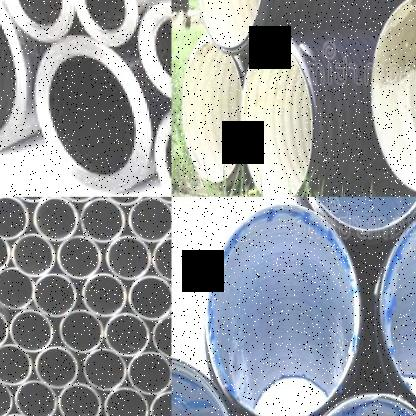pipe: (204, 203, 360, 416), (33, 34, 153, 197), (240, 42, 312, 196), (182, 39, 243, 183), (371, 0, 416, 194), (379, 205, 416, 416), (172, 353, 237, 416), (136, 0, 171, 106), (196, 0, 265, 50), (70, 0, 140, 49), (0, 0, 73, 45), (309, 393, 415, 416), (33, 197, 80, 241), (80, 198, 125, 243), (105, 236, 152, 279), (82, 274, 128, 317), (56, 236, 101, 279), (33, 274, 78, 317), (59, 310, 104, 353), (128, 197, 171, 241), (127, 352, 171, 395), (129, 275, 171, 320), (104, 314, 149, 356), (35, 346, 78, 389), (9, 311, 53, 353), (13, 234, 55, 276), (83, 349, 126, 390), (14, 380, 57, 416), (56, 383, 101, 416), (0, 267, 33, 308), (103, 387, 148, 416), (0, 196, 29, 239), (0, 344, 31, 384), (152, 236, 172, 281), (152, 315, 172, 358), (149, 390, 171, 416), (0, 378, 12, 416), (0, 230, 10, 273), (0, 307, 8, 349)
